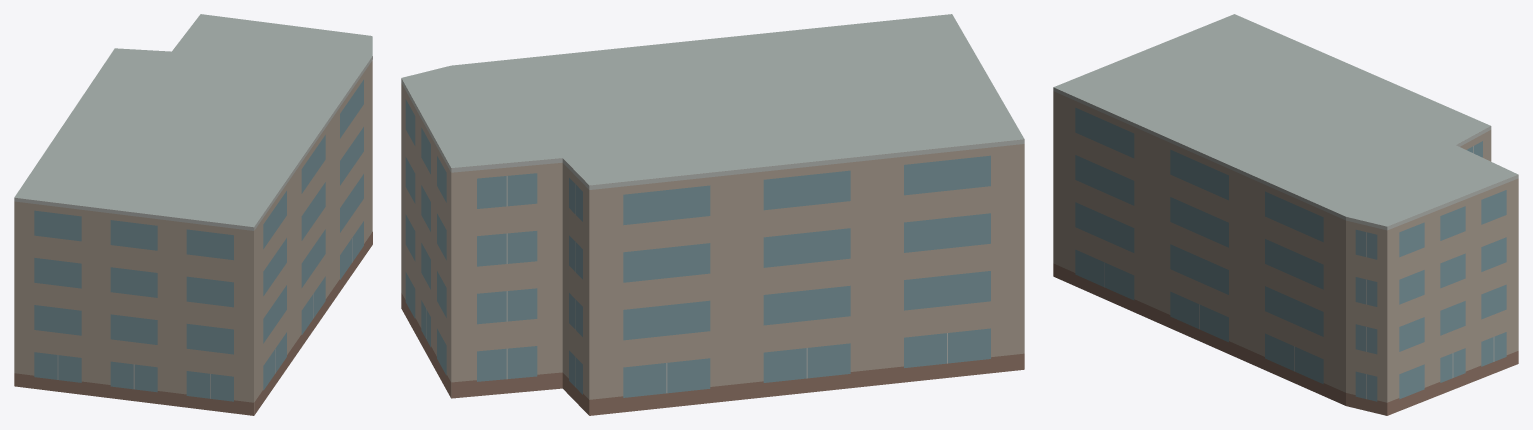
The model's file is survey-upis-32577803.glb.
3 views of the same model, side by side, from view 1: azimuth 30°, elevation 25°; view 2: azimuth 150°, elevation 25°; view 3: azimuth 270°, elevation 25° (orthographic). The views are drawn at different scales.
Parts seen in each view (by area): view 1: survey-upis-32577803.tmp; view 2: survey-upis-32577803.tmp; view 3: survey-upis-32577803.tmp.
Part boxes in pixels (<box>): survey-upis-32577803.tmp: <box>14,14,372,415</box>; survey-upis-32577803.tmp: <box>401,14,1024,415</box>; survey-upis-32577803.tmp: <box>1053,14,1518,415</box>.
Size of the model in its own units: 29.4 by 12.2 by 27.19.
